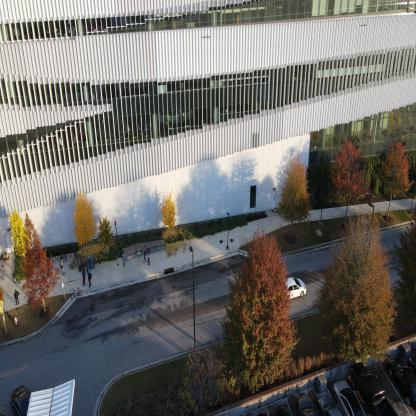Hunt Library: (2, 0, 415, 298)
